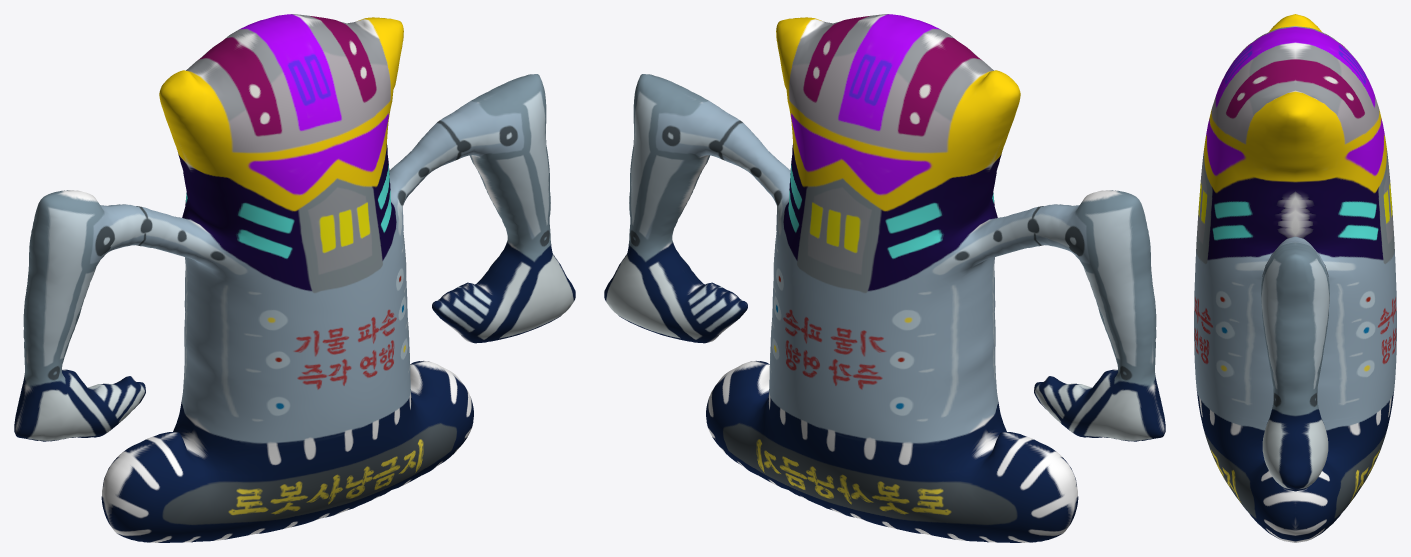
The model's file is Cranebot0.glb.
The picture shows the model from 3 angles, left to right: view 1: azimuth 30°, elevation 25°; view 2: azimuth 150°, elevation 25°; view 3: azimuth 270°, elevation 25°; orthographic projection. The views are drawn at different scales.
Bounding box in the file's own units: 6.93 × 5.89 × 2.35.
1 material, 1 textured.
